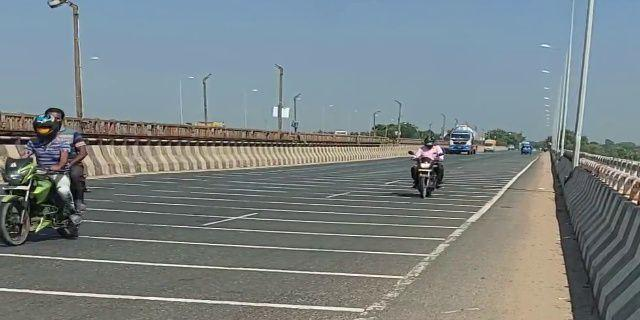Motorbike: (3, 102, 90, 249), (405, 135, 453, 203)
Truck: (446, 122, 481, 158)
